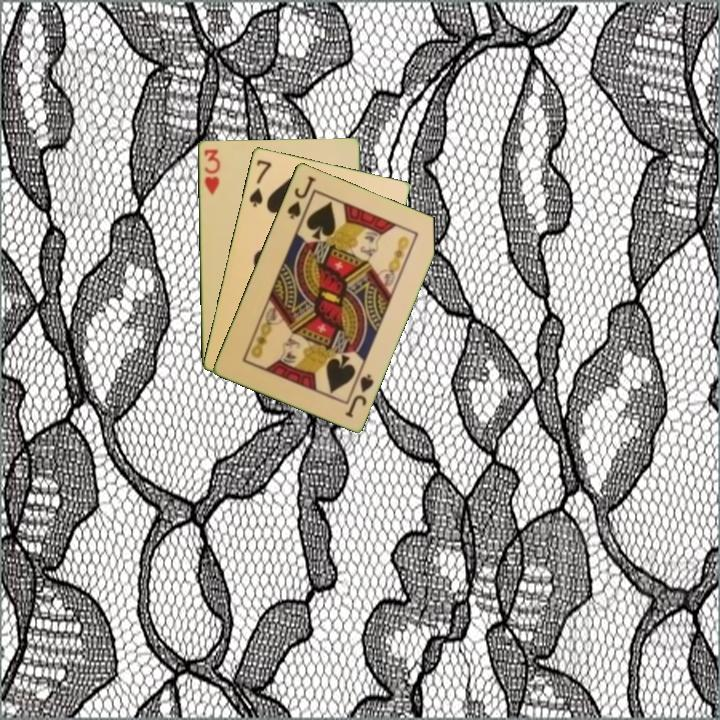3h: (200, 145, 223, 197)
7s: (245, 156, 274, 210)
Js: (341, 367, 376, 420), (283, 172, 318, 222)
